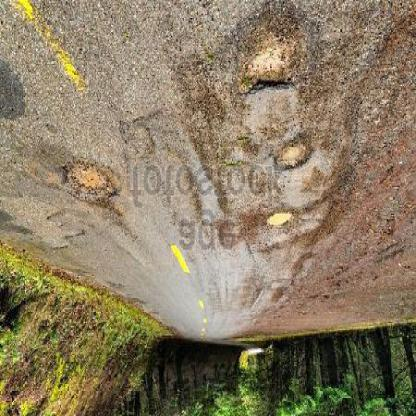pothole: (240, 39, 301, 97), (59, 162, 121, 203), (275, 134, 313, 174), (265, 211, 297, 232)
